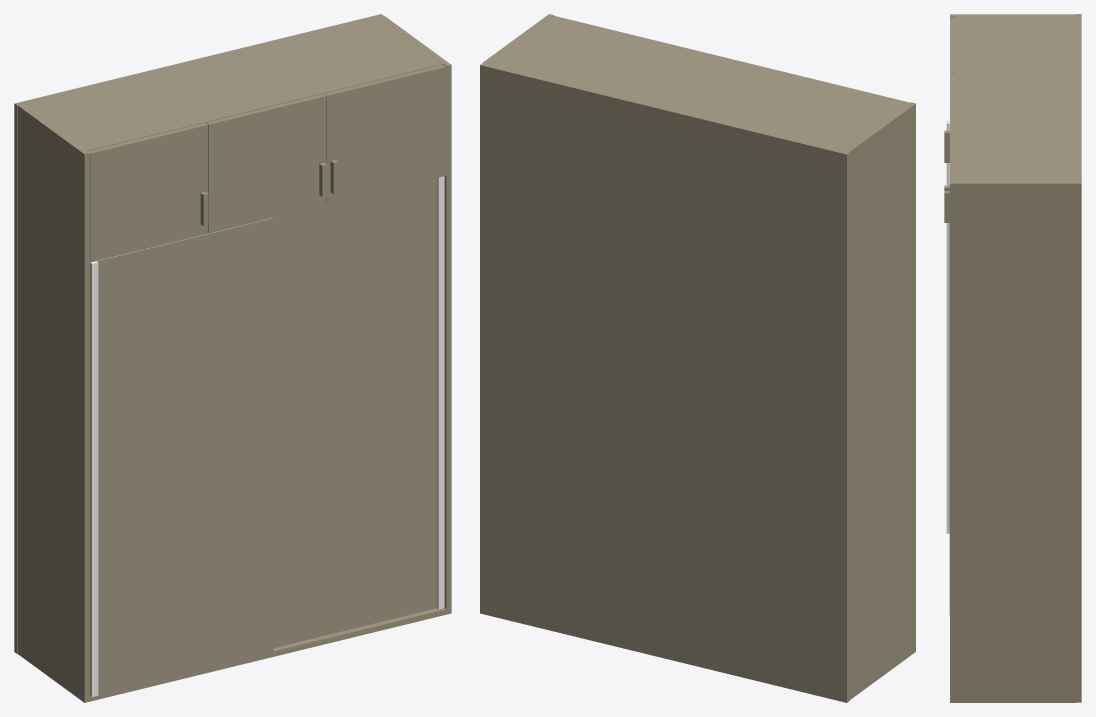
Rendered from wardorb_4.fbx.
3 renders of one model, left to right at view 1: azimuth 30°, elevation 25°; view 2: azimuth 150°, elevation 25°; view 3: azimuth 270°, elevation 25°, orthographic. The views are drawn at different scales.
Parts seen in each view (by area): view 1: Cube.001; view 2: Cube.001; view 3: Cube.001.
Part boxes in pixels (x1,y1,x2,y2): Cube.001: [14, 14, 451, 702]; Cube.001: [480, 14, 915, 702]; Cube.001: [944, 14, 1081, 702].
Bounding box in the file's own units: 214 × 305 × 73.23.
